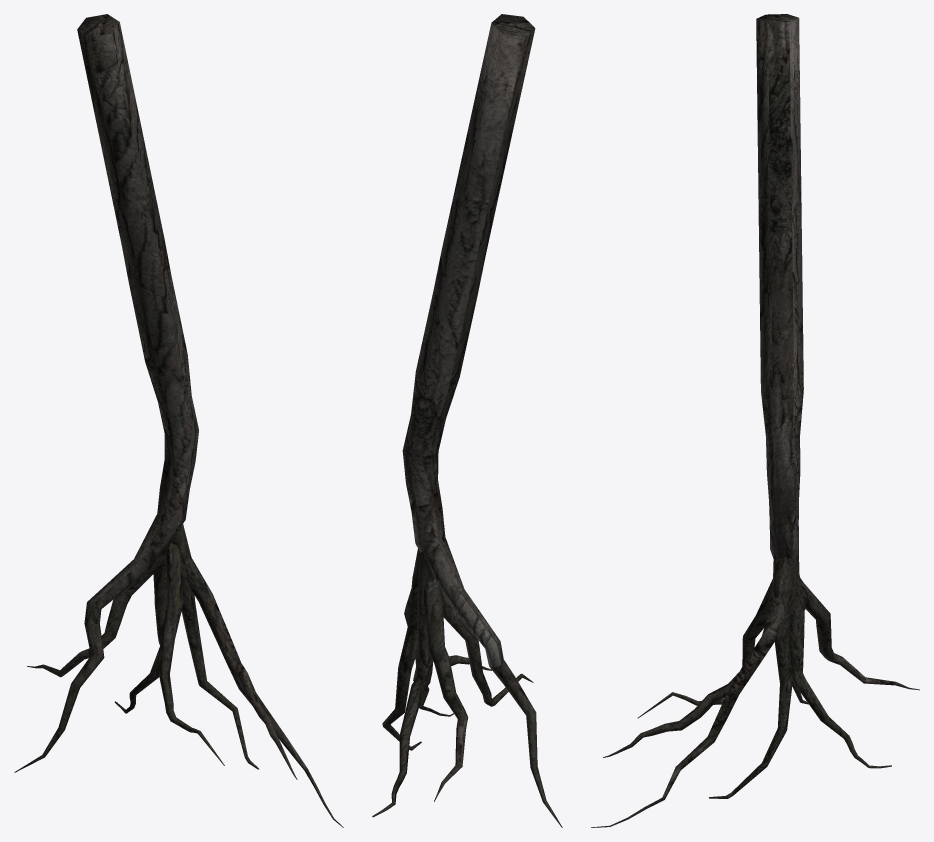
The model's file is roots.fbx.
3 views of the same model, side by side, from view 1: azimuth 30°, elevation 25°; view 2: azimuth 150°, elevation 25°; view 3: azimuth 270°, elevation 25° (orthographic). The views are drawn at different scales.
Parts seen in each view (by area): view 1: tree; view 2: tree; view 3: tree.
Part boxes in pixels (x1=…): tree: x1=14, y1=14, x2=343, y2=827; tree: x1=372, y1=14, x2=562, y2=827; tree: x1=591, y1=14, x2=919, y2=827.
Bounding box in the file's own units: 779 × 2660 × 1067.
